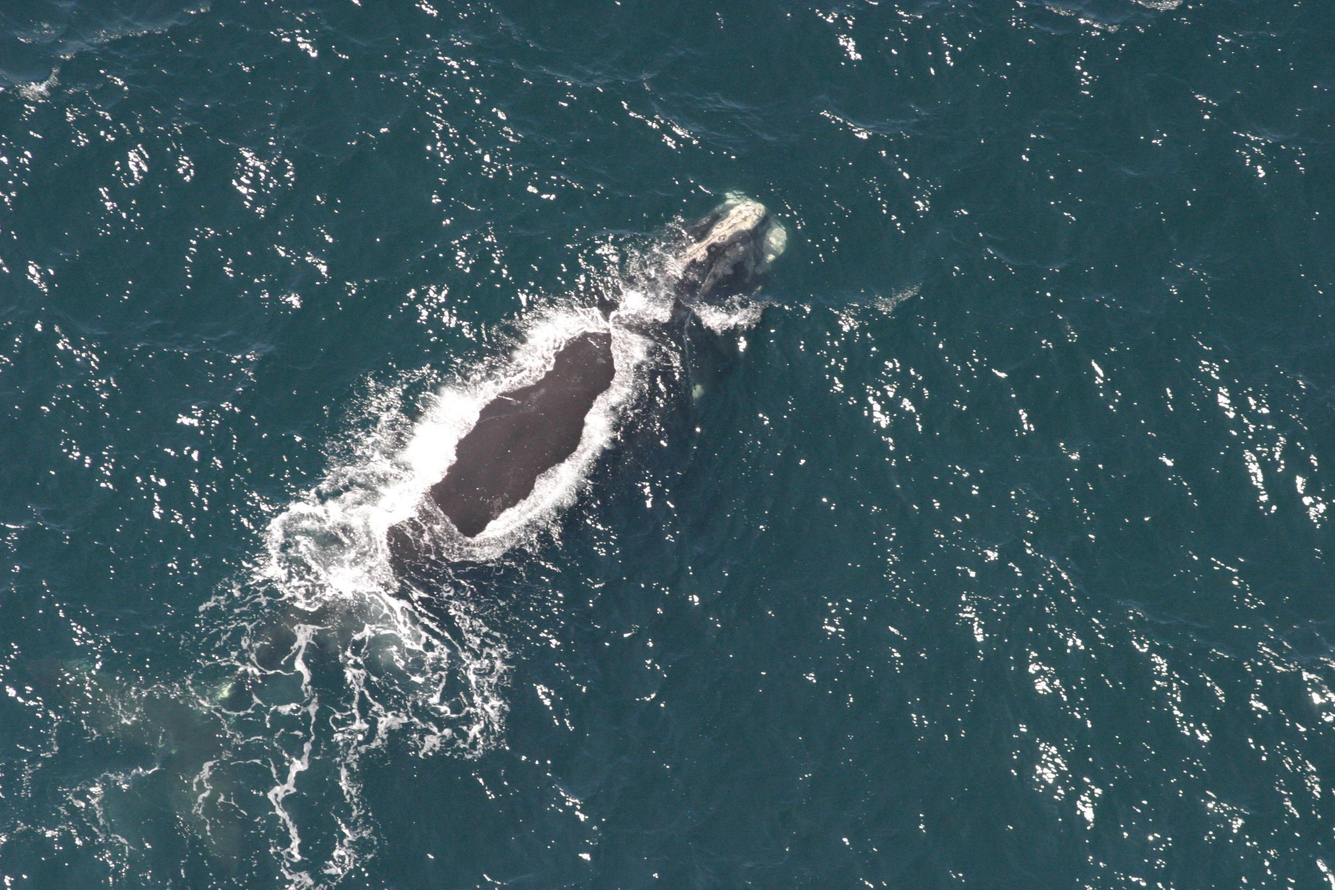whale: (39, 176, 796, 870)
